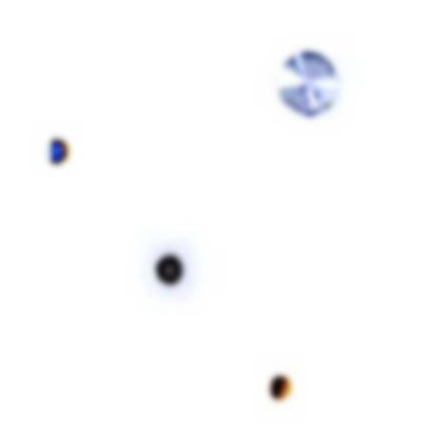abnormal: (262, 33, 358, 123)
cancer: (129, 231, 207, 303)
normal: (30, 125, 93, 180), (247, 358, 304, 415)
